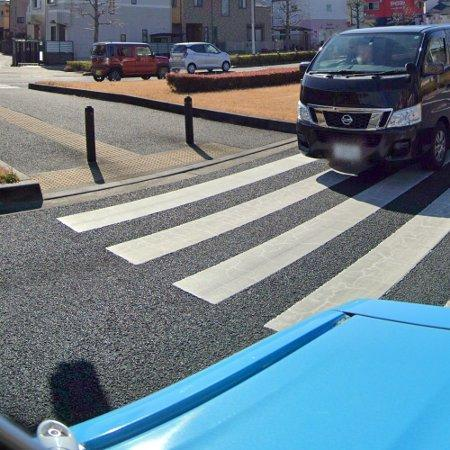crosswalks: (45, 152, 450, 333)
